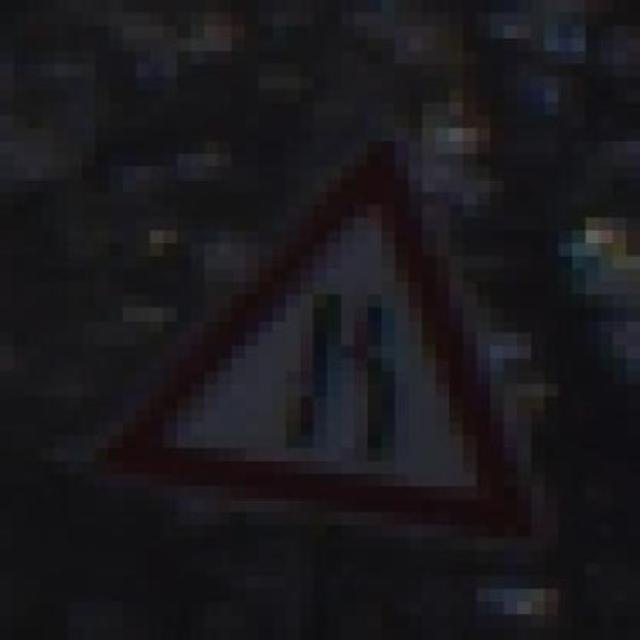-Road narrows on right: (96, 128, 558, 550)
